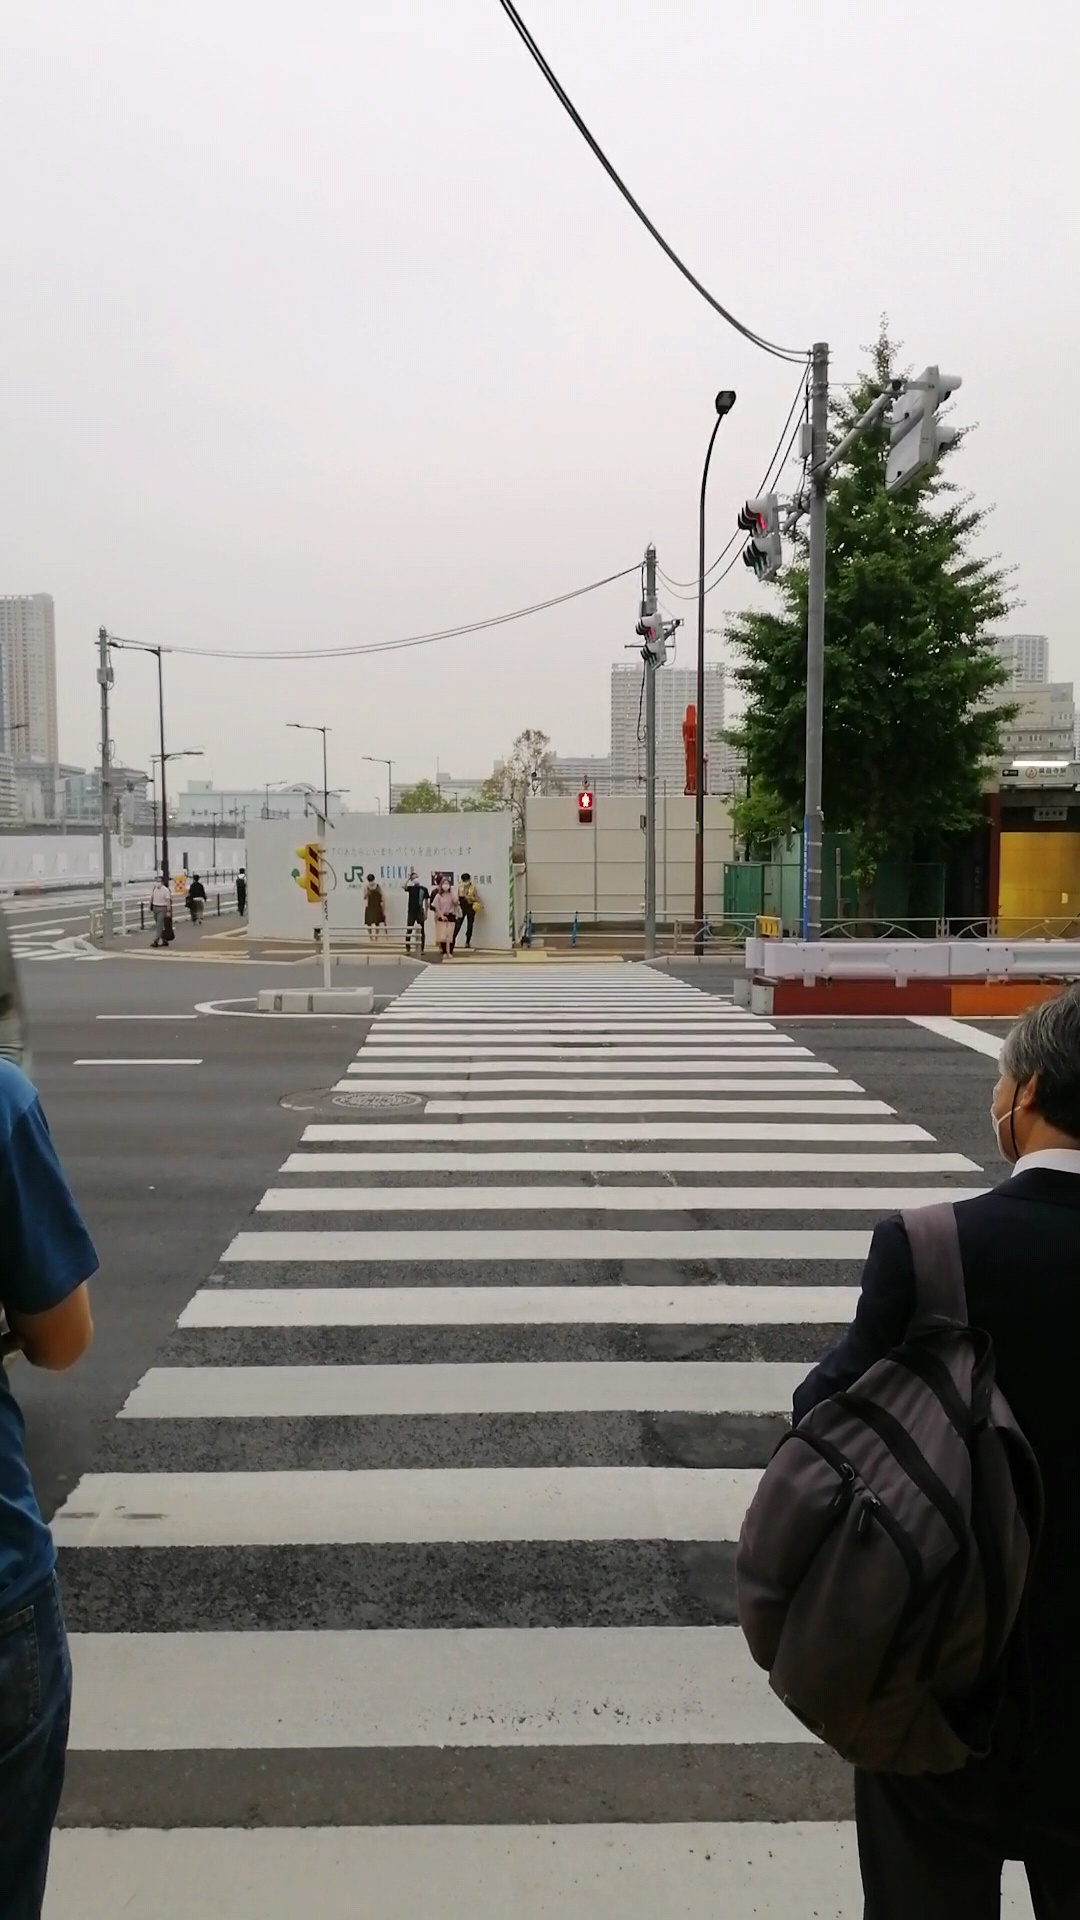red: (576, 789, 596, 825)
